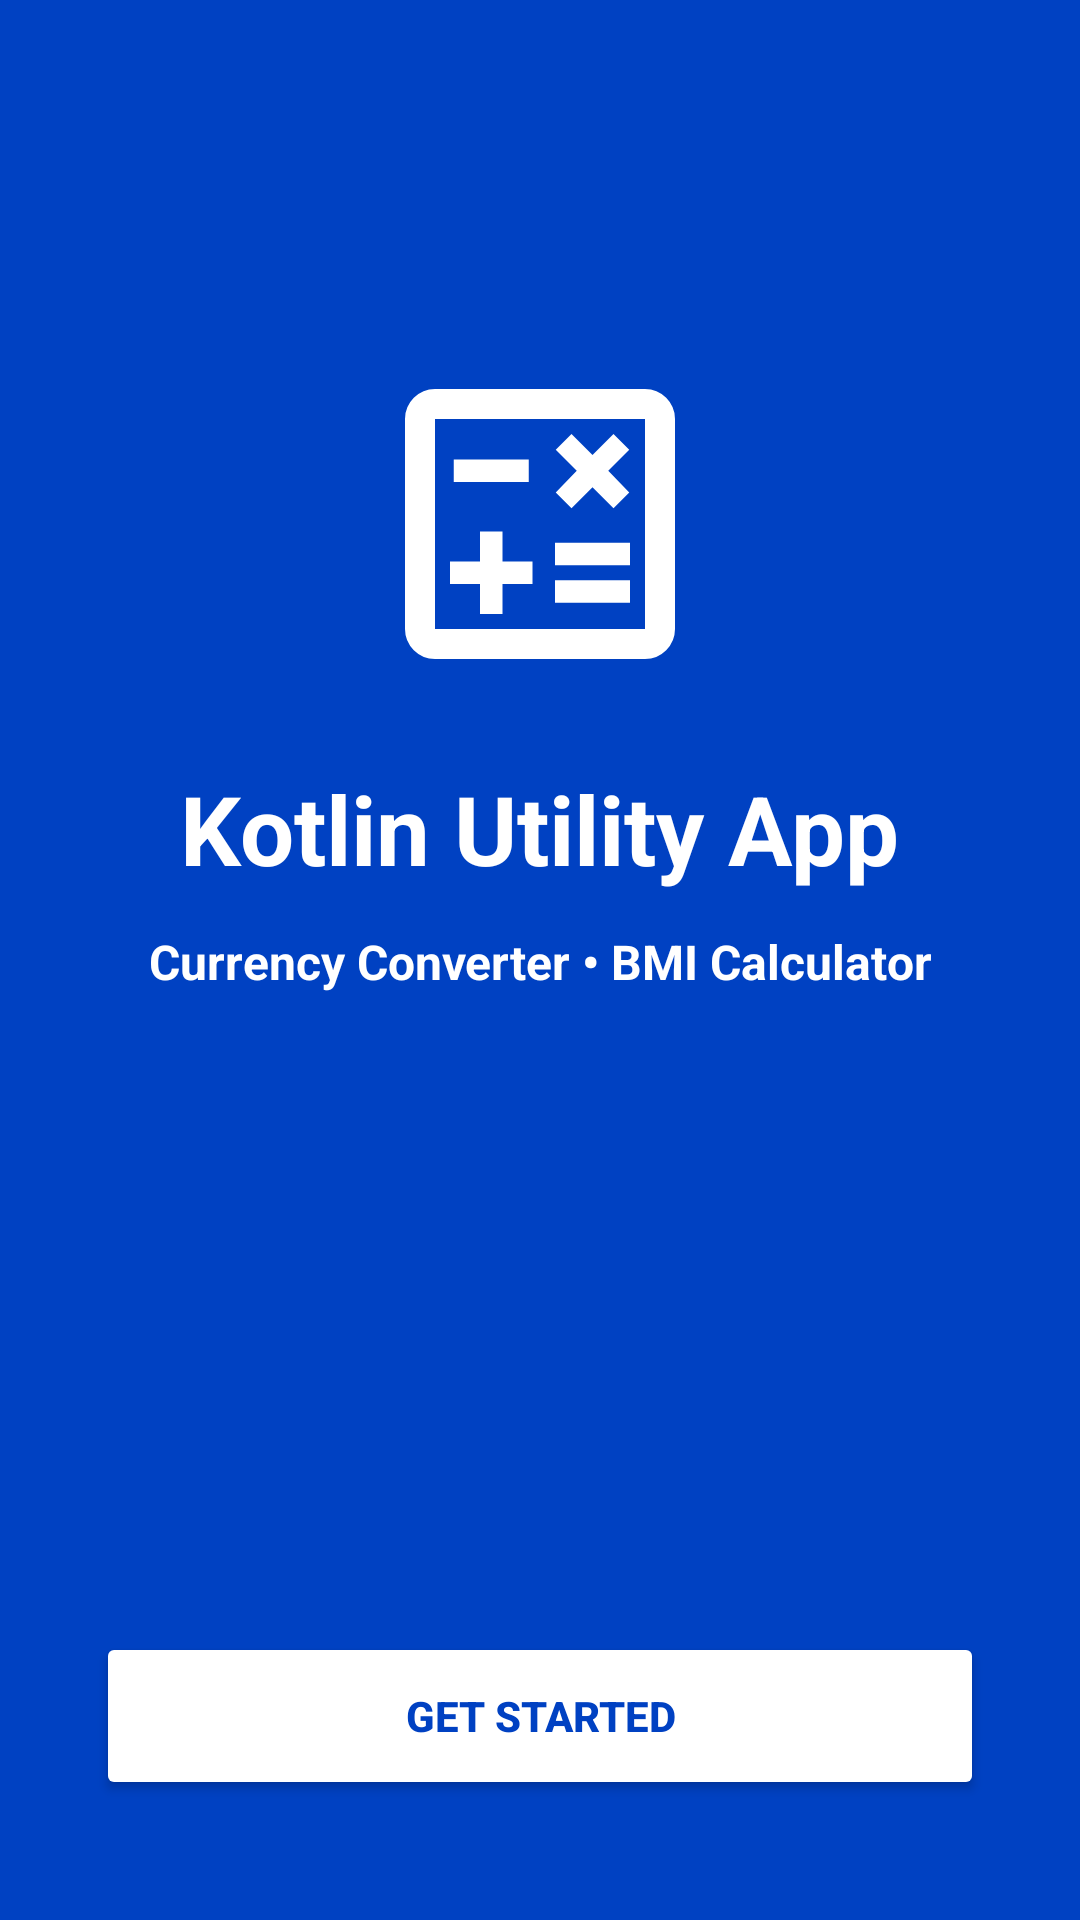

Icon bounding boxes for this 1080px×1920px phone screenshot, format (x1=x1, y1=y1, x2=x2, y2=y2):
calculatoricon: (x1=405, y1=389, x2=675, y2=659)
